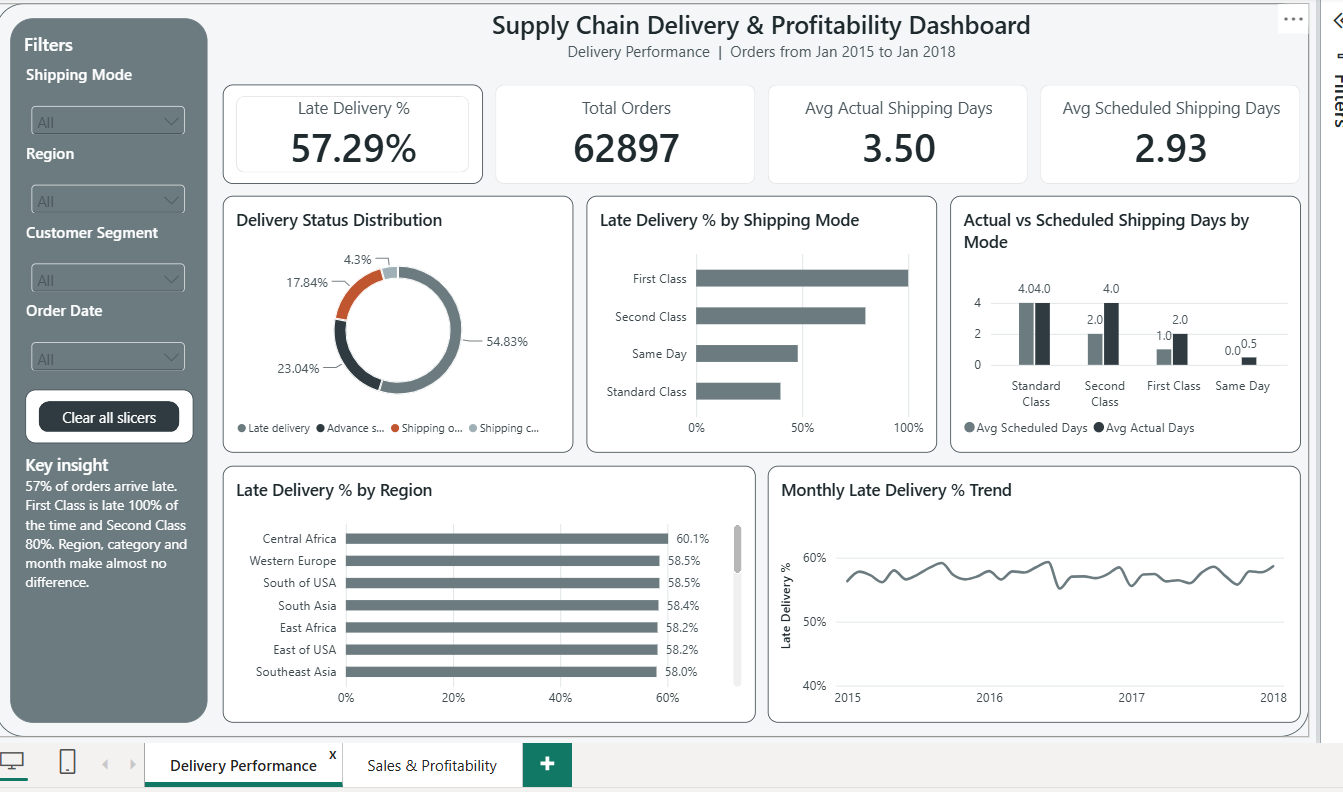

Layout of this report page (visuals, bound fields, positions):
{"tool":"powerbi","page":{"name":"Delivery Performance","canvas":[1280,720],"ordinal":0},"visuals":[{"type":"textbox","box":[6,6,1268,708],"z":0},{"type":"textbox","box":[20,20,190,680],"z":100},{"type":"textbox","box":[34,34,162,24],"z":220},{"type":"slicer","title":"Shipping Mode","fields":{"Values":["Supply_Chain_Analysis_Cleandata.shipping_mode"]},"box":[34,60,162,72],"z":230},{"type":"slicer","title":"Region","fields":{"Values":["Supply_Chain_Analysis_Cleandata.order_region"]},"box":[34,136,162,72],"z":240},{"type":"slicer","title":"Customer Segment","fields":{"Values":["Supply_Chain_Analysis_Cleandata.customer_segment"]},"box":[34,212,162,72],"z":250},{"type":"slicer","title":"Order Date","fields":{"Values":["Supply_Chain_Analysis_Cleandata.order_date"]},"box":[34,288,162,72],"z":260},{"type":"actionButton","box":[34.4,378.9,162.2,52.2],"z":280},{"type":"textbox","box":[34.4,440,161.1,135.6],"z":290},{"type":"textbox","box":[226,10,1040,68],"z":300},{"type":"cardVisual","title":"Late Delivery %","fields":{"Data":["Supply_Chain_Analysis_Cleandata.Late Delivery %"]},"box":[226,84,251,96],"z":400},{"type":"cardVisual","fields":{"Data":["Supply_Chain_Analysis_Cleandata.Total Orders"]},"box":[489,84,251,96],"z":410},{"type":"cardVisual","fields":{"Data":["Supply_Chain_Analysis_Cleandata.Avg Actual Days"]},"box":[752,84,251,96],"z":420},{"type":"cardVisual","fields":{"Data":["Supply_Chain_Analysis_Cleandata.Avg Scheduled Days"]},"box":[1015,84,251,96],"z":430},{"type":"donutChart","title":"Delivery Status Distribution","fields":{"Category":["Supply_Chain_Analysis_Cleandata.delivery_status"],"Y":["Supply_Chain_Analysis_Cleandata.Items (All Status)"]},"box":[226,192,338.7,248],"z":500},{"type":"clusteredBarChart","title":"Late Delivery % by Shipping Mode","fields":{"Category":["Supply_Chain_Analysis_Cleandata.shipping_mode"],"Y":["Supply_Chain_Analysis_Cleandata.Late Delivery %"]},"box":[576.7,192,338.7,248],"z":510},{"type":"clusteredColumnChart","title":"Actual vs Scheduled Shipping Days by Mode","fields":{"Category":["Supply_Chain_Analysis_Cleandata.shipping_mode"],"Y":["Supply_Chain_Analysis_Cleandata.Avg Scheduled Days","Supply_Chain_Analysis_Cleandata.Avg Actual Days"]},"box":[927.3,192,338.7,248],"z":520},{"type":"clusteredBarChart","title":"Late Delivery % by Region","fields":{"Category":["Supply_Chain_Analysis_Cleandata.order_region"],"Y":["Supply_Chain_Analysis_Cleandata.Late Delivery %"]},"box":[226,452,514,248],"z":600},{"type":"lineChart","title":"Monthly Late Delivery % Trend","fields":{"Category":["Supply_Chain_Analysis_Cleandata.order_month"],"Y":["Supply_Chain_Analysis_Cleandata.Late Delivery %"]},"box":[752,452,514,248],"z":610}]}

Visuals, with their boxes on the page's 1280x720 design canvas (x1, y1, x2, y2). These are canvas units, not pixel positions in the 1343x792 screenshot, which may show the page scaled, cropped or inside an application window:
textbox: pyautogui.locateOnScreen(6, 6, 1274, 714)
textbox: pyautogui.locateOnScreen(20, 20, 210, 700)
textbox: pyautogui.locateOnScreen(34, 34, 196, 58)
"Shipping Mode" slicer: pyautogui.locateOnScreen(34, 60, 196, 132)
"Region" slicer: pyautogui.locateOnScreen(34, 136, 196, 208)
"Customer Segment" slicer: pyautogui.locateOnScreen(34, 212, 196, 284)
"Order Date" slicer: pyautogui.locateOnScreen(34, 288, 196, 360)
actionButton: pyautogui.locateOnScreen(34, 379, 197, 431)
textbox: pyautogui.locateOnScreen(34, 440, 196, 576)
textbox: pyautogui.locateOnScreen(226, 10, 1266, 78)
"Late Delivery %" cardVisual: pyautogui.locateOnScreen(226, 84, 477, 180)
cardVisual - Supply_Chain_Analysis_Cleandata.Total Orders: pyautogui.locateOnScreen(489, 84, 740, 180)
cardVisual - Supply_Chain_Analysis_Cleandata.Avg Actual Days: pyautogui.locateOnScreen(752, 84, 1003, 180)
cardVisual - Supply_Chain_Analysis_Cleandata.Avg Scheduled Days: pyautogui.locateOnScreen(1015, 84, 1266, 180)
"Delivery Status Distribution" donutChart: pyautogui.locateOnScreen(226, 192, 565, 440)
"Late Delivery % by Shipping Mode" clusteredBarChart: pyautogui.locateOnScreen(577, 192, 915, 440)
"Actual vs Scheduled Shipping Days by Mode" clusteredColumnChart: pyautogui.locateOnScreen(927, 192, 1266, 440)
"Late Delivery % by Region" clusteredBarChart: pyautogui.locateOnScreen(226, 452, 740, 700)
"Monthly Late Delivery % Trend" lineChart: pyautogui.locateOnScreen(752, 452, 1266, 700)
